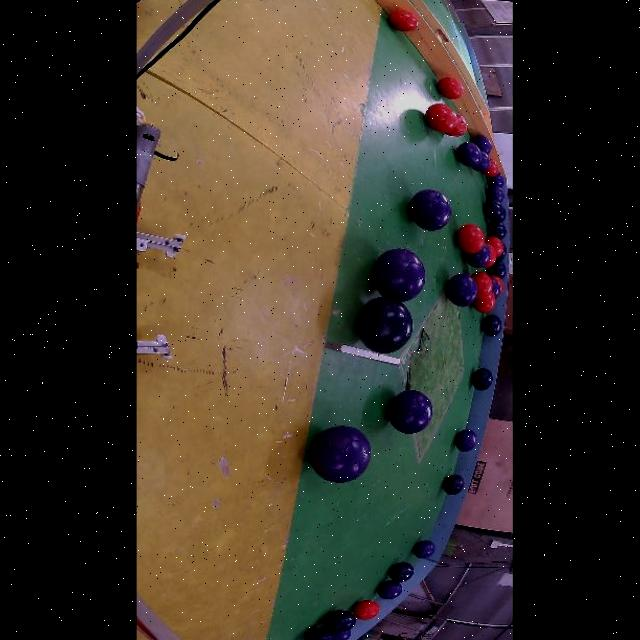B: (357, 296, 412, 353), (324, 610, 356, 632), (389, 562, 414, 583), (471, 368, 493, 391), (442, 474, 465, 495), (483, 200, 506, 221), (482, 315, 501, 336), (487, 221, 506, 239), (487, 260, 506, 278), (483, 200, 502, 218)
P: (310, 426, 370, 483), (357, 296, 412, 353), (373, 248, 425, 302), (389, 391, 433, 434), (410, 189, 451, 231), (456, 136, 492, 172), (446, 274, 478, 307), (465, 244, 491, 268), (485, 174, 505, 202), (378, 580, 402, 600), (455, 430, 476, 452), (414, 540, 436, 559), (304, 627, 336, 640), (487, 260, 506, 278), (491, 278, 501, 298), (334, 630, 351, 640)
R: (471, 272, 496, 313), (425, 103, 458, 133), (457, 223, 485, 253), (389, 9, 419, 32), (485, 236, 504, 268), (471, 272, 493, 298), (437, 77, 463, 99), (353, 600, 380, 619), (446, 115, 467, 137), (483, 159, 499, 178)
